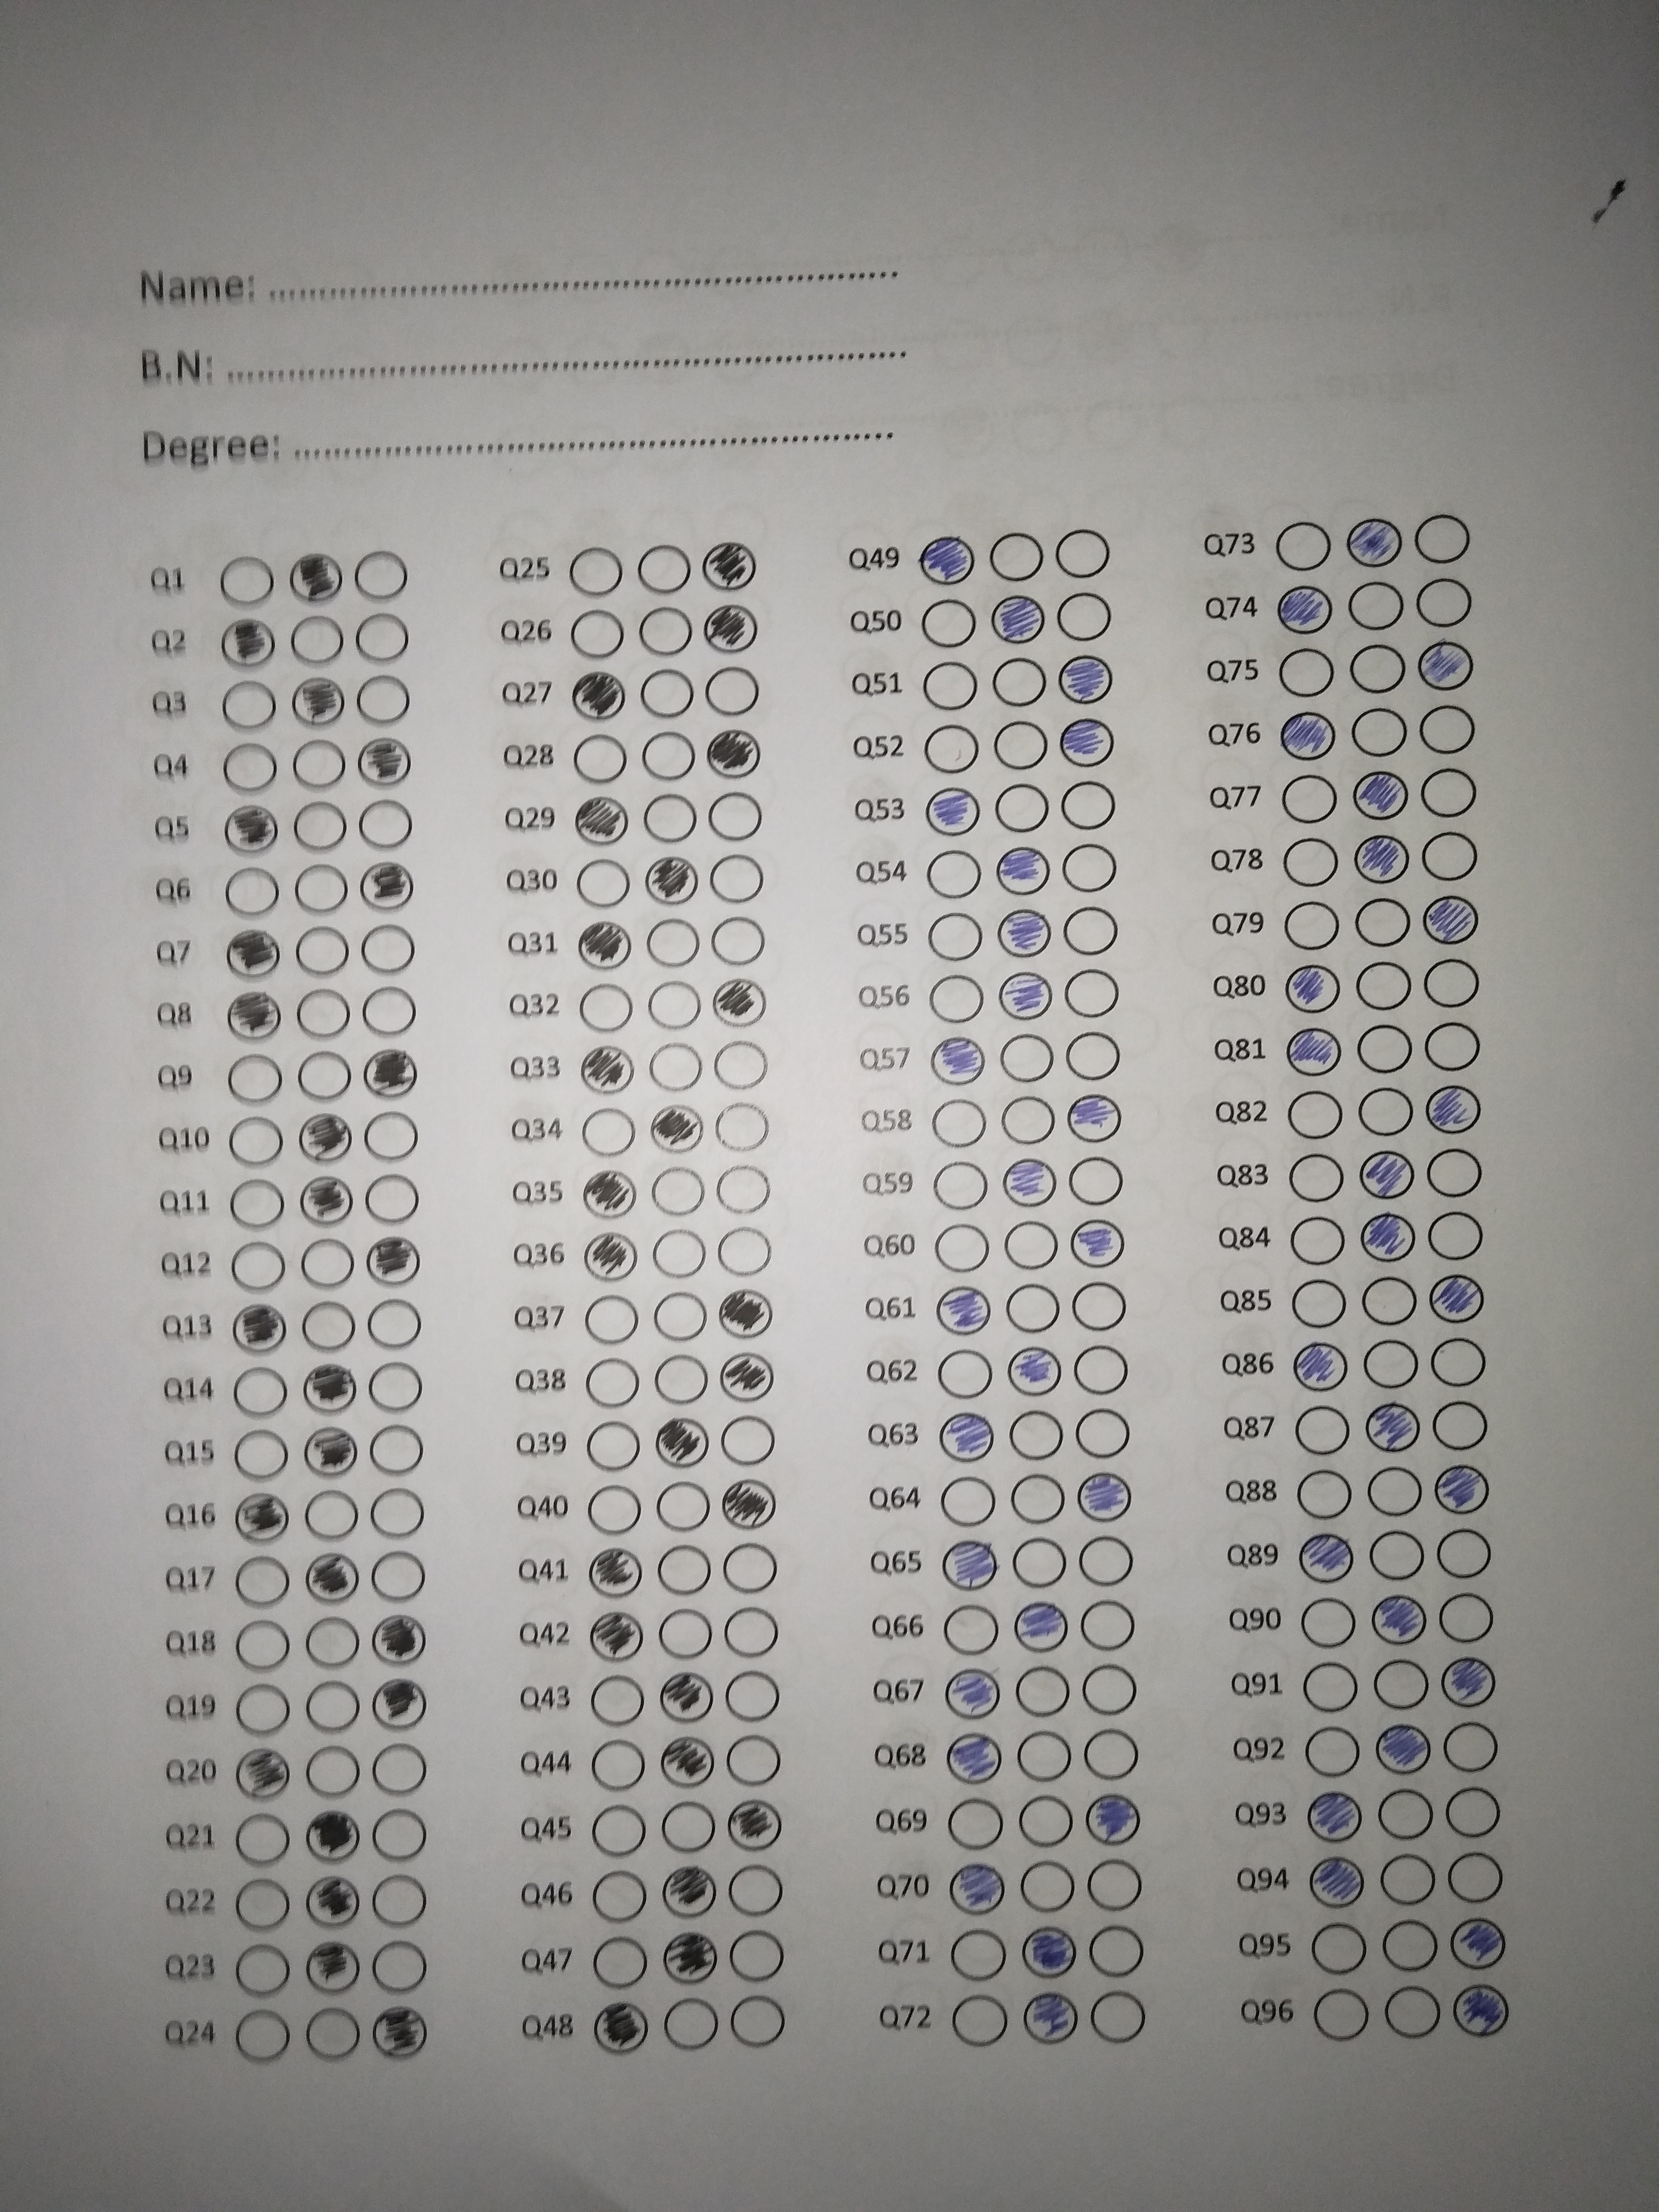not-c: (714, 1731, 793, 1797), (1068, 1594, 1147, 1660), (206, 543, 281, 610), (721, 1987, 795, 2052), (1077, 1919, 1152, 1982), (345, 608, 423, 667), (713, 1409, 786, 1472), (1084, 1855, 1159, 1916), (917, 587, 983, 655), (293, 2006, 362, 2071), (228, 2008, 293, 2078), (586, 1794, 650, 1864), (343, 542, 415, 604), (366, 1737, 437, 1799), (298, 1738, 371, 1799), (218, 1811, 291, 1872), (223, 1940, 296, 2001), (925, 1348, 999, 1409), (934, 1602, 1009, 1662), (938, 1925, 1014, 1982), (214, 862, 284, 925), (1073, 1662, 1147, 1721), (1066, 1409, 1147, 1463), (575, 1292, 650, 1350), (591, 1930, 655, 1996), (1302, 1916, 1370, 1979), (214, 737, 286, 796), (373, 1939, 444, 1998), (1290, 1721, 1361, 1780), (655, 1792, 718, 1858), (1060, 777, 1126, 840), (214, 676, 282, 737), (218, 1238, 286, 1299), (645, 1287, 713, 1348), (573, 1484, 650, 1538), (296, 1679, 366, 1738), (941, 1993, 1012, 2050), (927, 1475, 1006, 1527), (1412, 698, 1485, 754), (725, 1862, 789, 1925), (927, 1217, 990, 1282), (361, 1169, 429, 1228), (713, 1101, 781, 1160), (918, 721, 988, 779), (936, 1797, 1007, 1853), (1415, 831, 1486, 887), (1419, 958, 1490, 1014), (355, 796, 418, 859), (986, 528, 1049, 590), (286, 735, 350, 796), (579, 1416, 643, 1477), (702, 852, 769, 911), (1272, 519, 1338, 578), (361, 1357, 429, 1414), (652, 1606, 720, 1663), (1014, 1794, 1082, 1851), (289, 923, 359, 979), (631, 540, 701, 596), (725, 1932, 795, 1987), (918, 970, 988, 1026), (364, 1425, 436, 1479), (1420, 1209, 1492, 1263), (289, 862, 352, 923), (634, 604, 697, 665), (1060, 900, 1121, 963), (1080, 1730, 1143, 1791), (366, 1547, 430, 1606), (1060, 967, 1124, 1026), (1016, 1728, 1080, 1787), (293, 1487, 359, 1545), (575, 981, 641, 1038), (587, 1867, 653, 1925), (1089, 1989, 1155, 2047), (1415, 509, 1473, 575), (1279, 897, 1345, 954), (225, 1426, 293, 1482), (925, 1097, 993, 1153), (1417, 768, 1485, 824), (1439, 1719, 1507, 1775), (227, 1616, 296, 1670), (368, 1808, 437, 1862), (1352, 958, 1422, 1012), (1295, 1660, 1366, 1712), (1053, 524, 1112, 587), (1007, 1470, 1066, 1533), (1284, 1273, 1347, 1332), (1429, 1332, 1492, 1392), (355, 671, 411, 737), (289, 986, 355, 1042), (366, 1871, 432, 1926), (1004, 1285, 1070, 1341), (1293, 1468, 1359, 1524), (920, 846, 988, 900), (924, 909, 992, 963), (1295, 1595, 1363, 1649), (708, 920, 777, 972), (221, 1113, 282, 1172), (300, 1299, 361, 1359), (234, 1550, 295, 1609), (228, 1874, 289, 1933), (655, 1479, 716, 1538), (992, 719, 1053, 779), (701, 794, 772, 845), (1068, 1346, 1140, 1397), (997, 1033, 1060, 1090), (1066, 1148, 1124, 1211), (1378, 1851, 1441, 1909), (662, 1996, 727, 2052), (713, 1223, 779, 1277), (1354, 1338, 1420, 1392), (1368, 1660, 1434, 1714), (1443, 1785, 1509, 1839), (910, 664, 983, 712), (1056, 843, 1129, 892), (1445, 1853, 1513, 1905), (362, 982, 422, 1042), (648, 1224, 708, 1284), (1000, 1094, 1060, 1153), (1385, 1986, 1445, 2045), (641, 977, 702, 1035), (709, 1043, 770, 1101), (1079, 1534, 1140, 1592), (293, 1047, 355, 1103), (701, 665, 763, 721), (572, 853, 634, 909), (366, 1491, 437, 1540), (992, 784, 1056, 838), (1284, 1090, 1349, 1144), (1364, 1465, 1429, 1519), (221, 1052, 288, 1104), (227, 1367, 293, 1420), (925, 1162, 992, 1214), (1344, 644, 1410, 697), (1429, 1527, 1495, 1580), (1009, 1667, 1077, 1717), (1303, 1993, 1371, 2043), (572, 728, 629, 787), (1065, 1029, 1124, 1087), (301, 1616, 362, 1672), (723, 1670, 784, 1726), (1279, 770, 1340, 826), (1356, 1019, 1412, 1080), (1297, 1404, 1358, 1460), (366, 1296, 429, 1350), (579, 1104, 641, 1158), (993, 655, 1047, 718), (359, 1111, 423, 1163), (1274, 643, 1338, 695), (1427, 1397, 1492, 1449), (1373, 1791, 1438, 1843), (221, 1177, 288, 1228), (709, 1169, 777, 1217), (298, 1235, 355, 1292), (1347, 578, 1405, 636), (1380, 1918, 1438, 1975), (1004, 1217, 1060, 1277), (650, 1163, 711, 1217), (636, 732, 699, 784), (1436, 1594, 1499, 1646), (288, 799, 352, 850), (648, 1545, 713, 1595), (1009, 1538, 1073, 1588), (355, 928, 422, 977), (568, 604, 626, 660), (643, 914, 701, 970), (650, 1352, 708, 1407), (1288, 1212, 1345, 1268), (286, 615, 345, 669), (723, 1608, 784, 1660), (1016, 1860, 1077, 1912), (1281, 836, 1342, 888), (1288, 1151, 1349, 1204), (1359, 1275, 1420, 1327), (1351, 895, 1413, 946), (1004, 1411, 1068, 1460), (1413, 580, 1478, 629), (1072, 1282, 1127, 1338), (638, 667, 695, 721), (230, 1683, 289, 1735), (721, 1543, 782, 1594), (563, 550, 622, 601), (641, 792, 701, 843), (1356, 1085, 1412, 1137), (1425, 1146, 1481, 1198), (1058, 592, 1115, 643), (586, 1355, 640, 1406), (650, 1040, 699, 1096), (589, 1742, 647, 1789), (591, 1677, 643, 1728), (1425, 1021, 1480, 1069), (1349, 705, 1401, 754), (1370, 1536, 1425, 1580)
taken-c: (939, 1534, 1000, 1595), (301, 1937, 362, 1996), (1012, 1595, 1072, 1656), (1358, 1207, 1419, 1266), (1448, 1912, 1507, 1973), (234, 1743, 293, 1803), (303, 1806, 362, 1865), (371, 2001, 430, 2060), (286, 549, 347, 606), (657, 1733, 718, 1791), (659, 1862, 720, 1919), (934, 1280, 995, 1338), (1305, 1851, 1366, 1909), (1420, 890, 1483, 946), (1288, 1338, 1351, 1393), (355, 733, 415, 791), (364, 1231, 423, 1289), (230, 1299, 288, 1359), (371, 1609, 429, 1669), (653, 1413, 711, 1472), (943, 1665, 1002, 1723), (1084, 1789, 1141, 1848), (1363, 1399, 1422, 1456), (1439, 1653, 1499, 1710), (1375, 1721, 1434, 1778), (216, 617, 277, 672), (230, 1489, 291, 1545), (369, 1677, 430, 1733), (1021, 1991, 1082, 2047), (1272, 583, 1335, 637), (1283, 1024, 1345, 1078), (298, 1170, 355, 1228), (587, 1608, 645, 1665), (592, 2000, 650, 2057), (995, 841, 1053, 899), (357, 859, 416, 914), (301, 1874, 361, 1930), (701, 601, 760, 657), (716, 1348, 775, 1404), (721, 1474, 777, 1533), (587, 1541, 643, 1601), (946, 1862, 1006, 1918), (1352, 768, 1412, 824), (1368, 1592, 1427, 1648), (288, 674, 349, 728), (295, 1111, 355, 1165), (1279, 707, 1340, 761), (1352, 831, 1413, 885), (1297, 1531, 1358, 1585), (1450, 1984, 1511, 2038), (361, 1047, 418, 1103), (301, 1360, 359, 1416), (303, 1550, 361, 1606), (701, 538, 758, 594), (575, 916, 631, 974), (711, 974, 767, 1031), (577, 1042, 634, 1097), (727, 1796, 782, 1853), (1056, 650, 1114, 705), (1058, 714, 1115, 770), (997, 968, 1054, 1024), (1002, 1153, 1058, 1211), (1070, 1216, 1127, 1271), (1006, 1341, 1061, 1399), (945, 1730, 1002, 1785), (1021, 1923, 1079, 1979), (1305, 1789, 1363, 1844), (580, 1230, 640, 1284), (660, 1932, 720, 1986), (917, 533, 976, 587), (924, 784, 983, 838), (927, 1033, 986, 1087), (1073, 1470, 1133, 1524), (1424, 1082, 1483, 1136), (1432, 1463, 1493, 1515), (301, 1425, 357, 1480), (708, 725, 763, 780), (573, 791, 629, 846), (718, 1284, 774, 1339), (570, 667, 627, 721), (988, 590, 1046, 644), (1065, 1092, 1122, 1146), (938, 1411, 995, 1465), (1284, 960, 1342, 1014), (1345, 516, 1405, 568), (1358, 1148, 1417, 1200), (1425, 1271, 1486, 1322), (221, 803, 277, 857), (225, 927, 281, 981), (227, 989, 282, 1043), (997, 906, 1053, 960), (659, 1672, 716, 1724), (650, 1101, 704, 1155), (645, 853, 701, 906), (584, 1167, 640, 1219), (1417, 641, 1474, 691)
